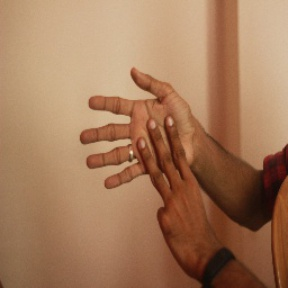M: (79, 65, 201, 209)
